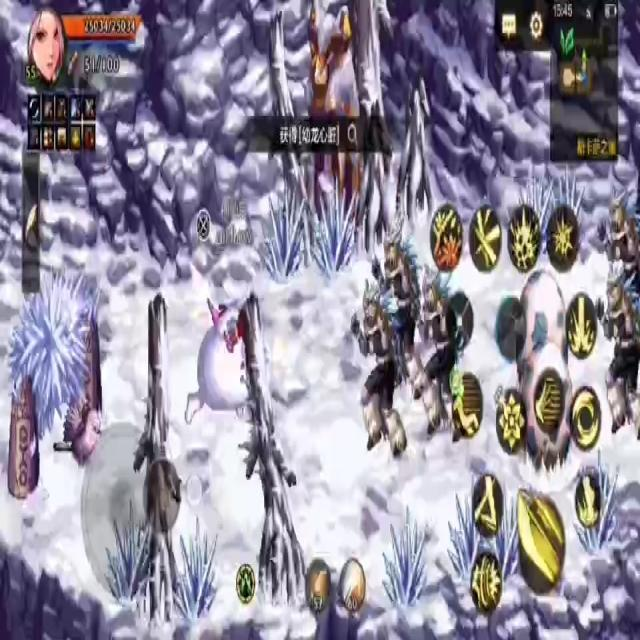player: (186, 291, 262, 433)
